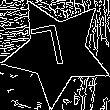L_S: (37, 23, 77, 79)
